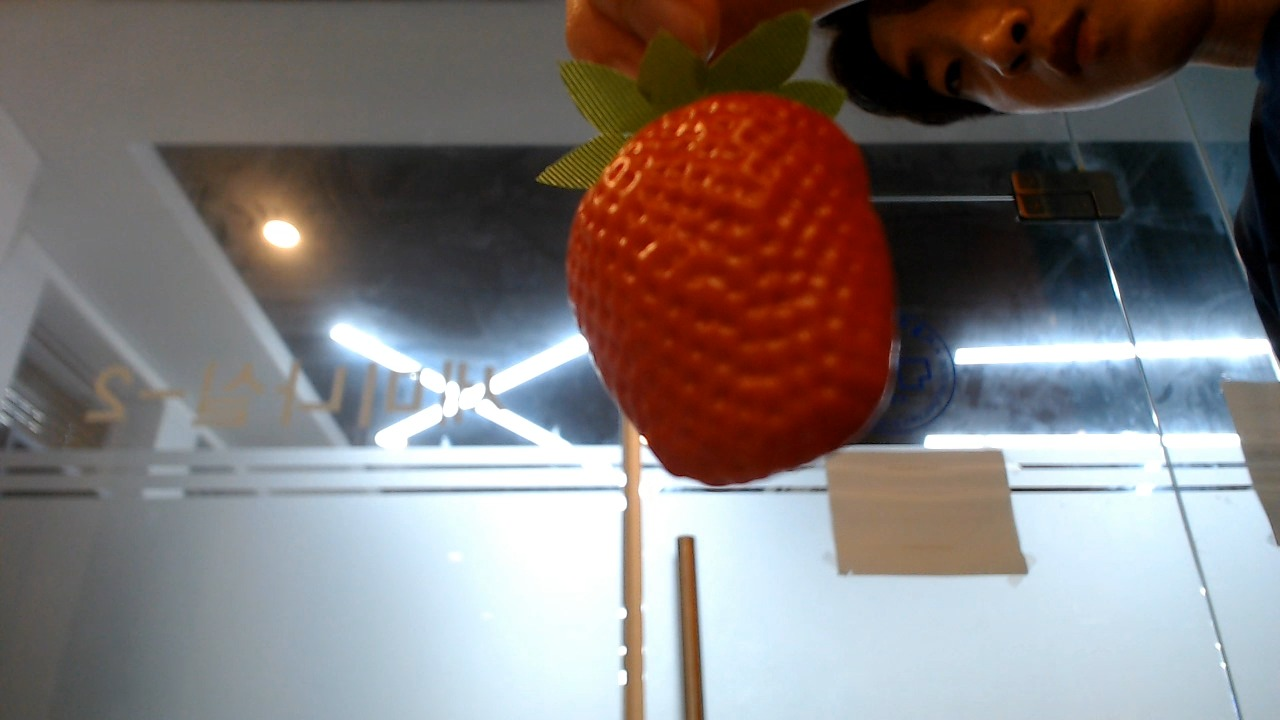strawberry: (563, 62, 896, 486)
